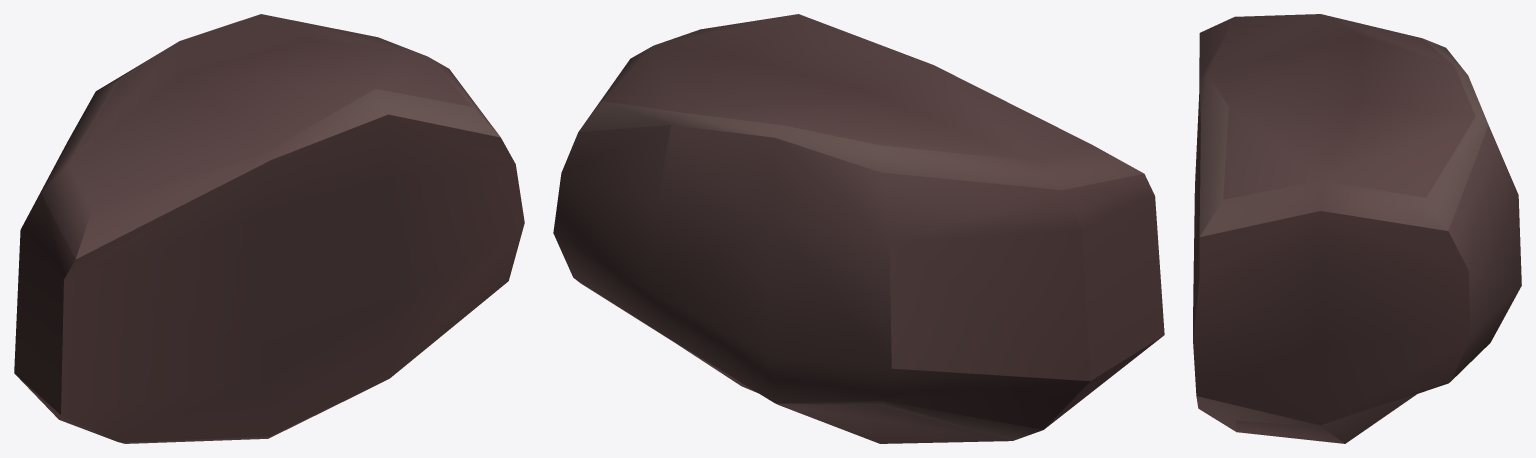
Rendered from SharpPebble.005.glb.
3 views of the same model, side by side, from view 1: azimuth 30°, elevation 25°; view 2: azimuth 150°, elevation 25°; view 3: azimuth 270°, elevation 25° (orthographic). The views are drawn at different scales.
Visible parts, largest first — view 1: SharpPebble.005; view 2: SharpPebble.005; view 3: SharpPebble.005.
Part boxes in pixels (box(x1,y1,x2,y2)): SharpPebble.005: box(14, 14, 524, 443); SharpPebble.005: box(553, 14, 1164, 443); SharpPebble.005: box(1193, 14, 1521, 443).
Size of the model in its own units: 973 by 682 by 554.
